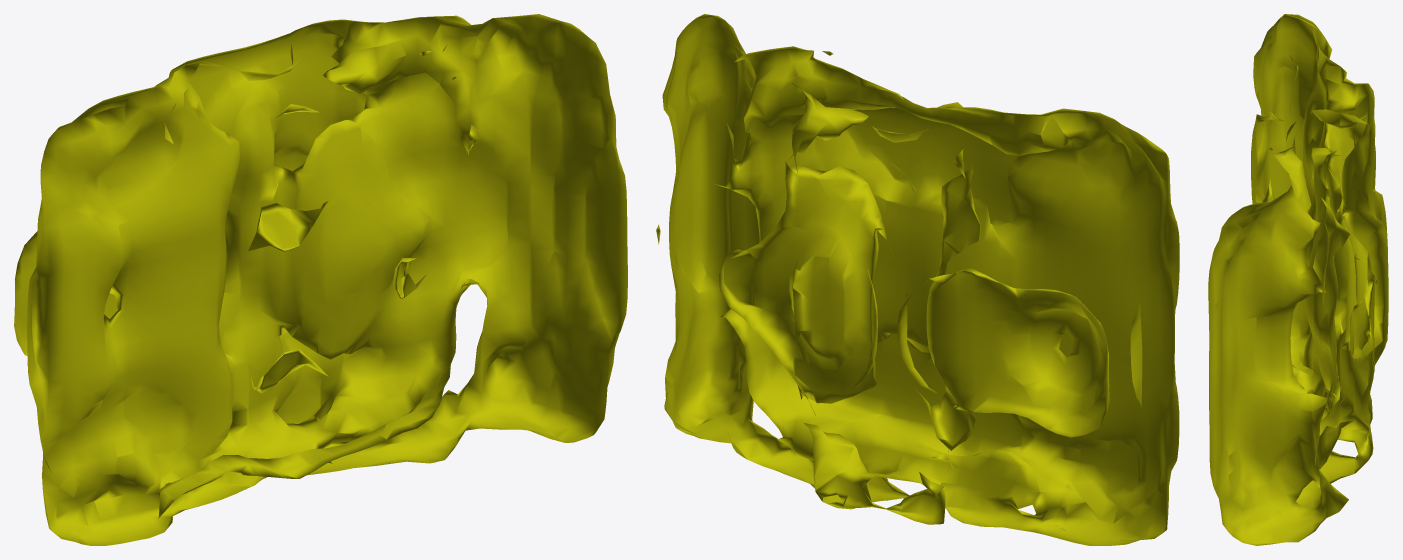
3 views of the same model, side by side, from view 1: azimuth 30°, elevation 25°; view 2: azimuth 150°, elevation 25°; view 3: azimuth 270°, elevation 25° (orthographic). The views are drawn at different scales.
Parts seen in each view (by area): view 1: world; view 2: world; view 3: world.
Part boxes in pixels (<box>): world: <box>14,14,627,545</box>; world: <box>656,14,1179,545</box>; world: <box>1208,14,1388,545</box>.
Bounding box in the file's own units: 36.77 × 28.34 × 12.93.
